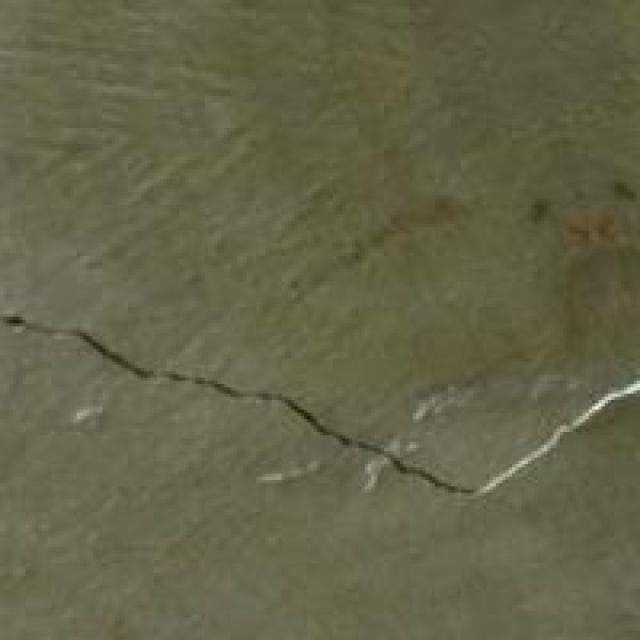Crack: (0, 246, 637, 576)
